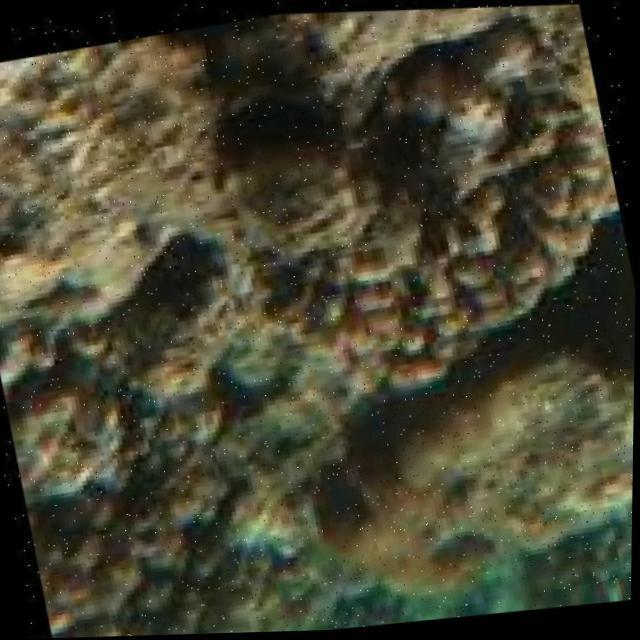Dead Coral: (197, 0, 640, 417), (19, 464, 302, 639)
